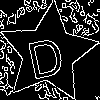D: (23, 28, 67, 80)
